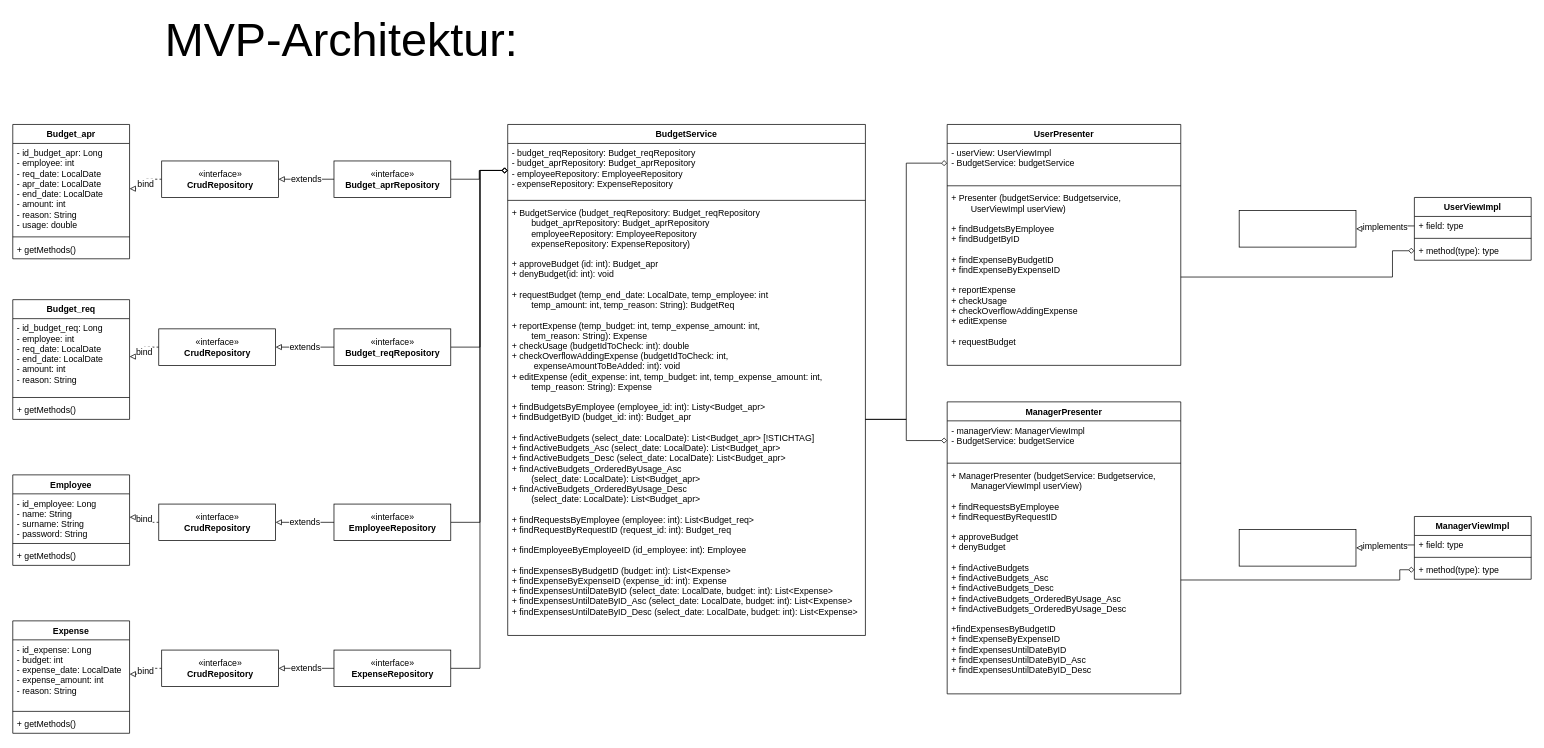
This 1544x748 diagram has some shape labels left out. The shapes that lost their labels are listed below. From the top down, each one's centre as x and y in pixels, then its label:
pixel 1297 228: «interface» IUserView
pixel 1297 547: «interface» IManagerView
